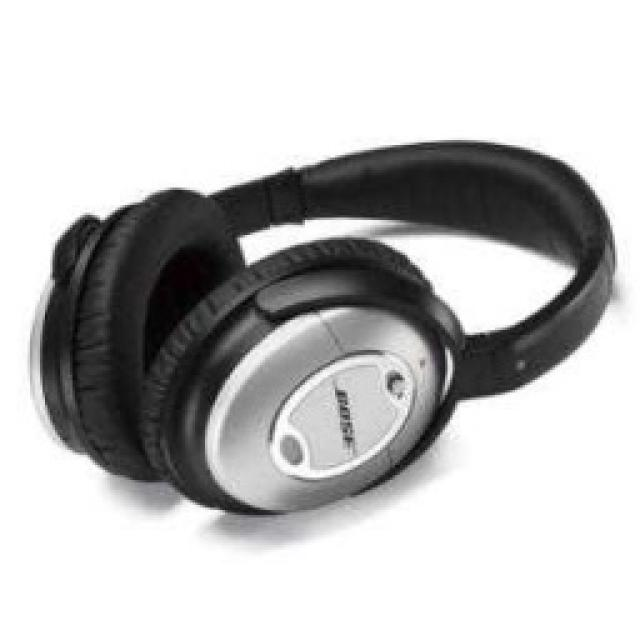headphones: (28, 135, 618, 515)
